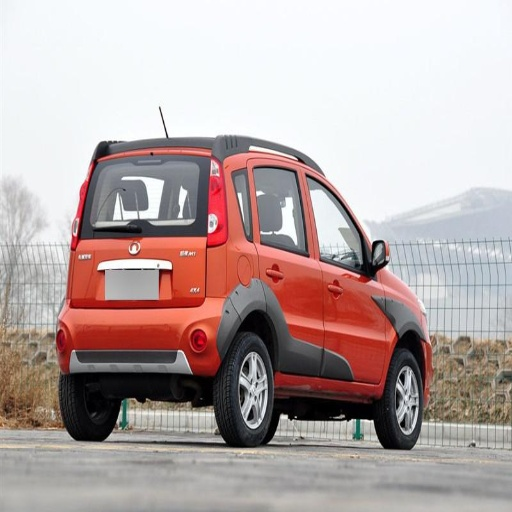back_bumper: (59, 303, 234, 374)
back_right_door: (249, 156, 324, 382)
trunk: (68, 223, 234, 348)
